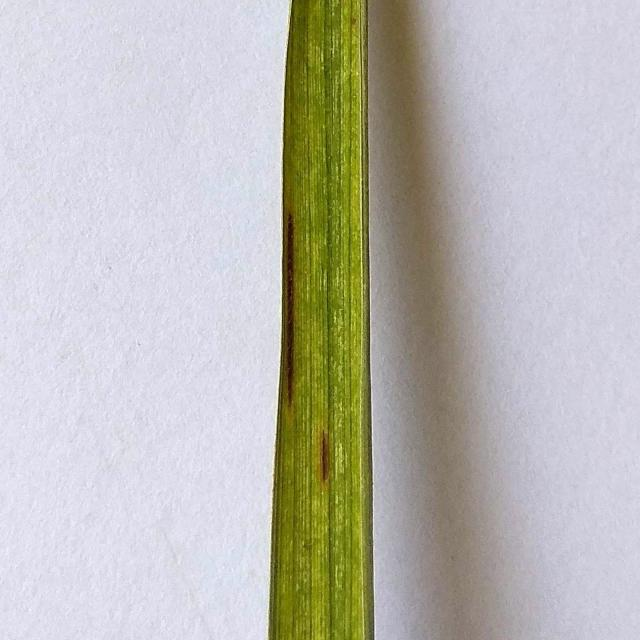Bacterial leaf blight: (246, 0, 428, 640)
